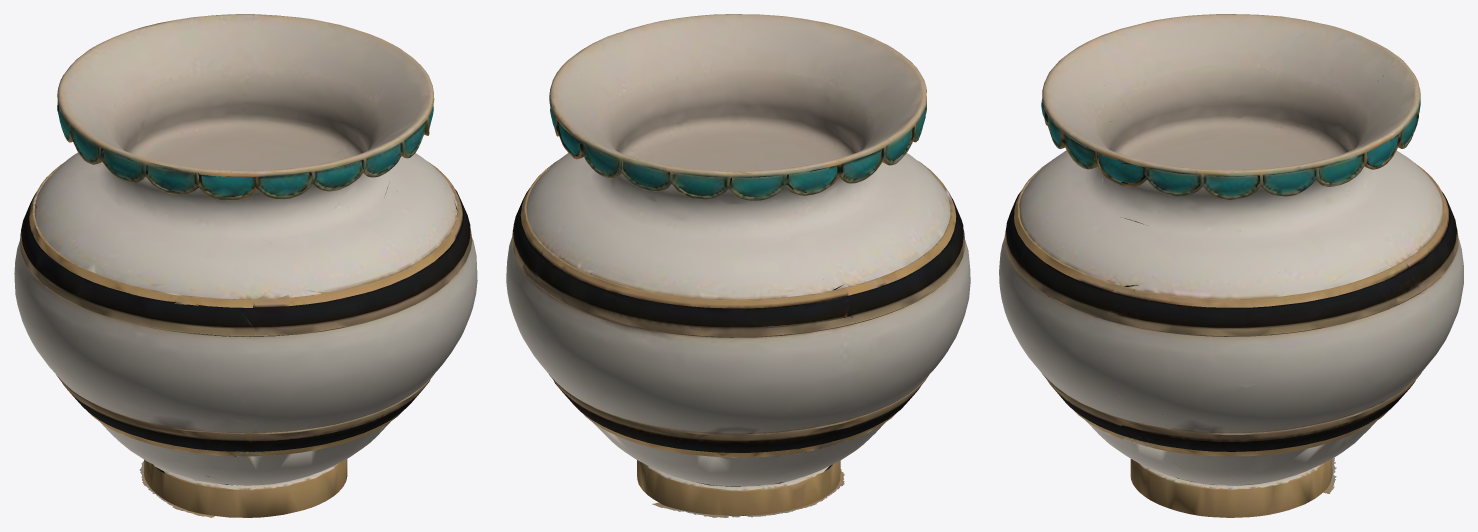
File: TH-10_vase_game.glb
3 renders of one model, left to right at view 1: azimuth 30°, elevation 25°; view 2: azimuth 150°, elevation 25°; view 3: azimuth 270°, elevation 25°, orthographic.
Parts seen in each view (by area): view 1: TH-10_vase; view 2: TH-10_vase; view 3: TH-10_vase.
Boxes of the visible parts, x1,y1,x2,y2 form: TH-10_vase: (14, 14, 477, 517); TH-10_vase: (506, 14, 970, 517); TH-10_vase: (999, 14, 1463, 517).
Bounding box in the file's own units: 0.2861 × 0.2601 × 0.2854.
1 material, 1 textured.
